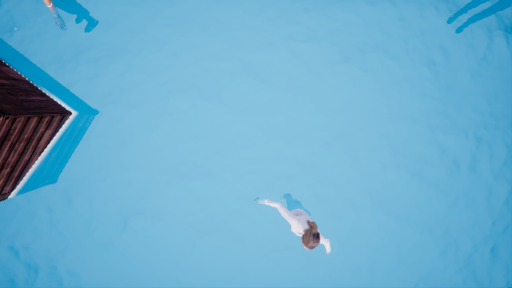person: (258, 190, 328, 256)
